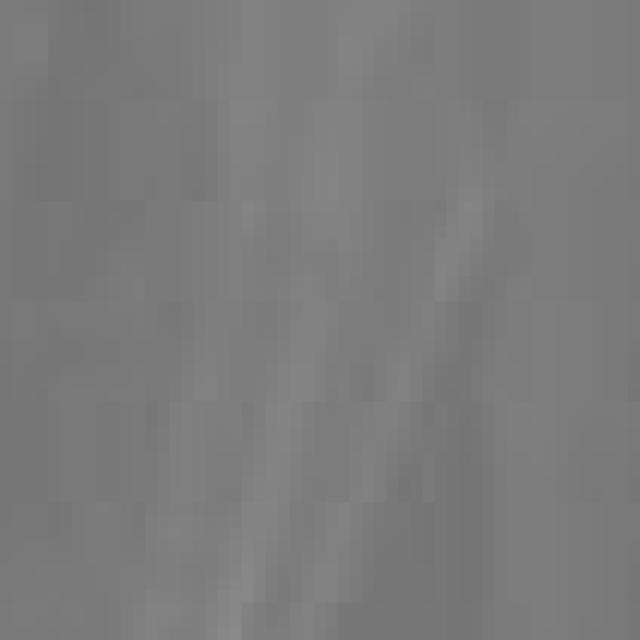fracture: (0, 2, 640, 640)
